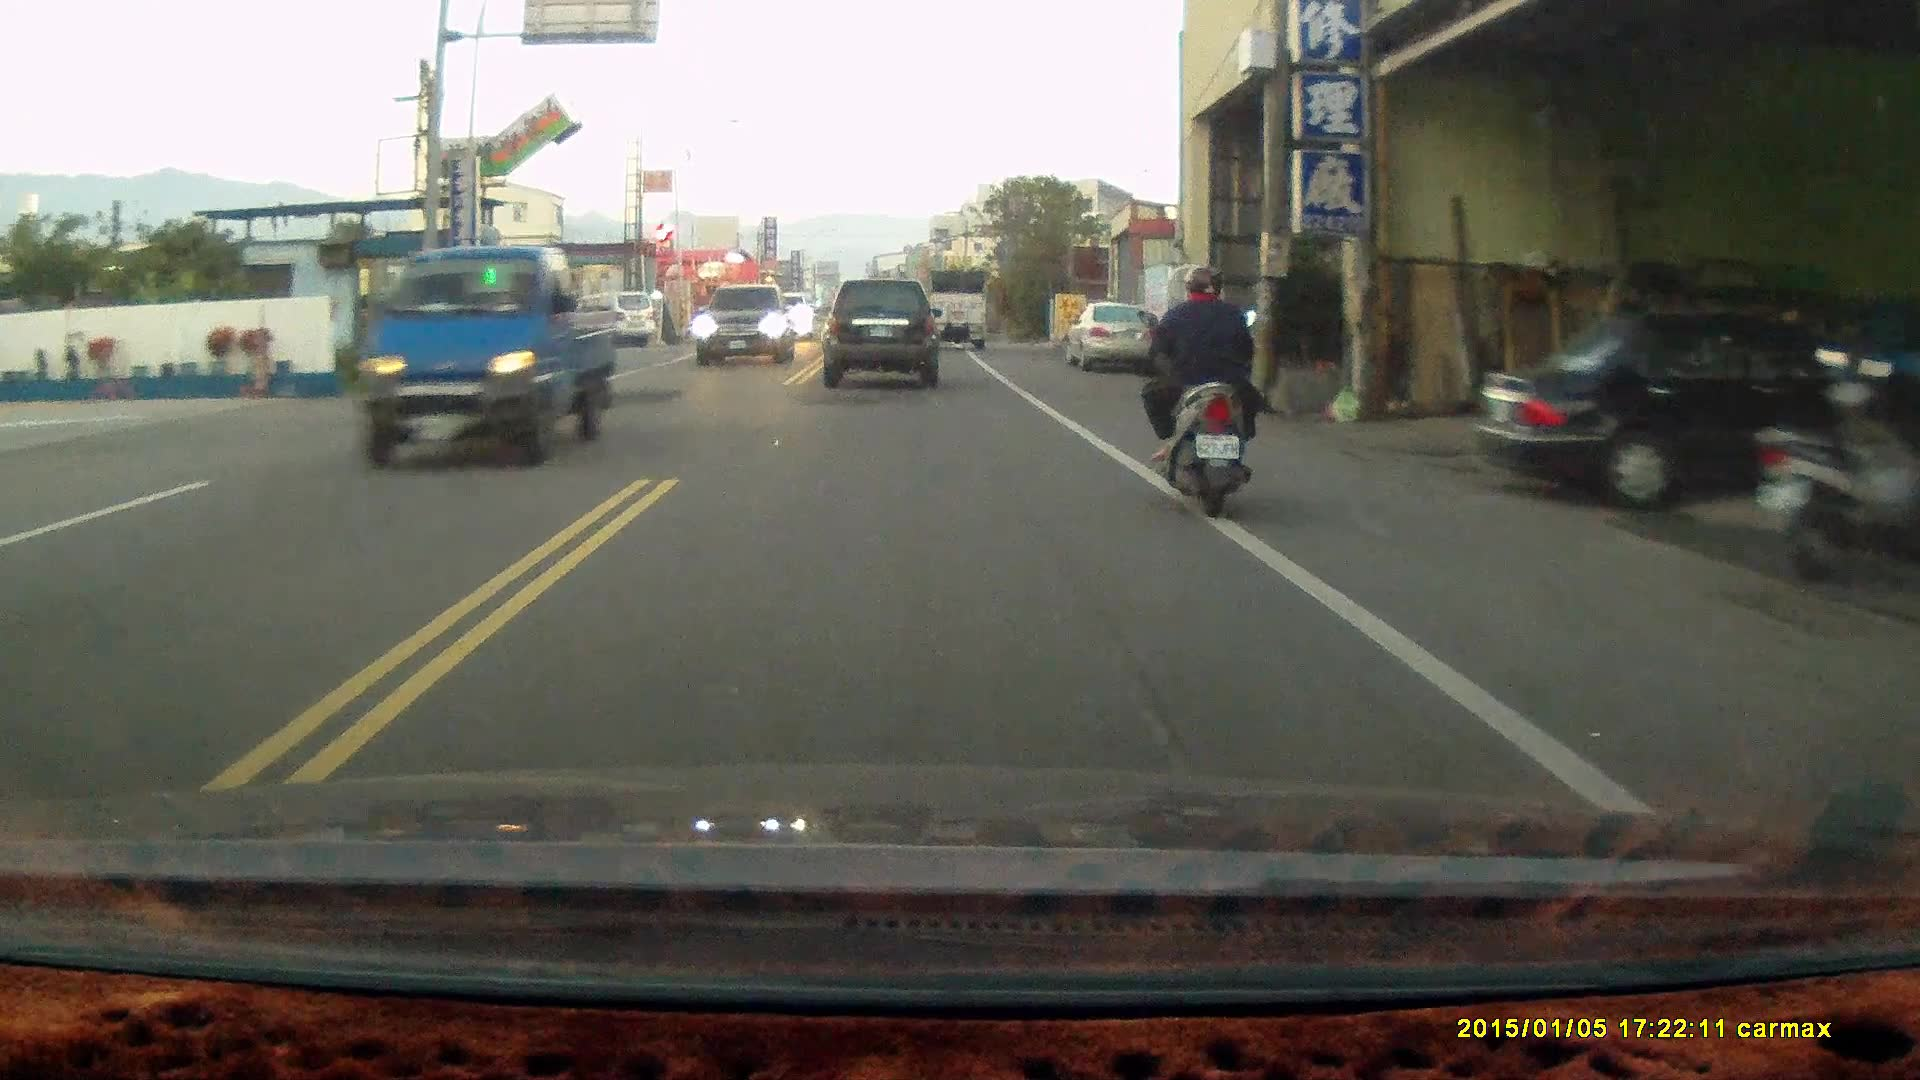rider: (1133, 260, 1260, 521)
vehicle: (1474, 303, 1898, 519), (358, 249, 629, 469), (823, 275, 942, 389), (700, 283, 803, 365), (1064, 300, 1160, 372), (925, 271, 994, 353), (564, 290, 658, 348)
